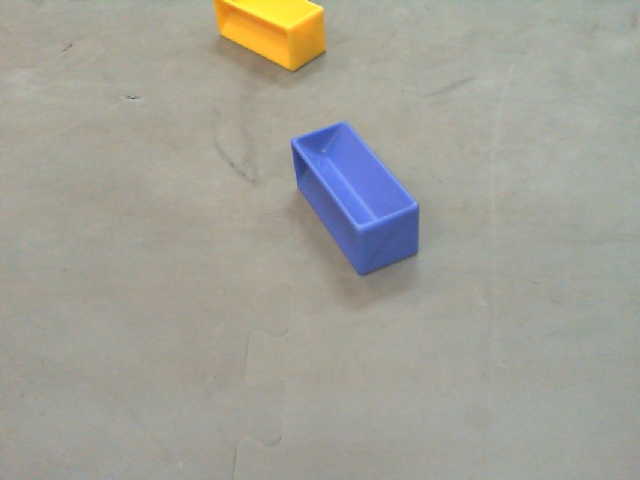BlueSample: (288, 117, 423, 280)
YellowSample: (211, 1, 330, 74)
